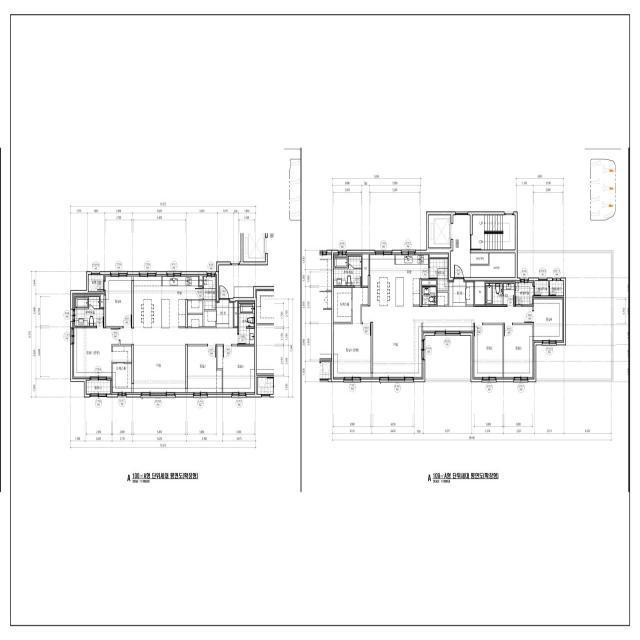space_balconi: (204, 275, 217, 310), (86, 381, 110, 394)
space_bedroom: (334, 288, 371, 380), (72, 328, 132, 379), (217, 346, 255, 395), (188, 346, 222, 395), (504, 325, 534, 380), (473, 325, 503, 380), (104, 274, 132, 326), (534, 297, 564, 343)
space_dressroom: (112, 364, 132, 395), (334, 288, 351, 322)
space_elevator: (429, 215, 453, 248)
space_elevator_hall: (219, 265, 274, 298), (451, 215, 470, 277)
space_front: (204, 300, 233, 328), (449, 279, 474, 307)
space_kitchen: (370, 253, 428, 306), (163, 274, 203, 299)
space_living_room: (362, 306, 532, 380), (134, 274, 237, 395)
space_multipurpose_space: (430, 259, 449, 291)
space_other: (471, 253, 515, 277), (515, 280, 534, 305), (362, 253, 369, 286), (475, 280, 484, 305), (535, 281, 548, 296), (471, 253, 488, 264), (550, 281, 563, 295), (188, 301, 203, 313), (188, 315, 203, 326), (438, 293, 448, 305), (234, 301, 238, 326), (430, 253, 449, 257), (422, 281, 436, 285), (101, 293, 104, 307), (200, 275, 203, 285)
space_outdoor_room: (88, 275, 103, 291)
space_staircase: (473, 215, 515, 250)
space_toilet: (75, 297, 104, 326), (334, 255, 361, 286), (239, 304, 254, 344), (486, 284, 514, 304), (422, 287, 436, 304)
